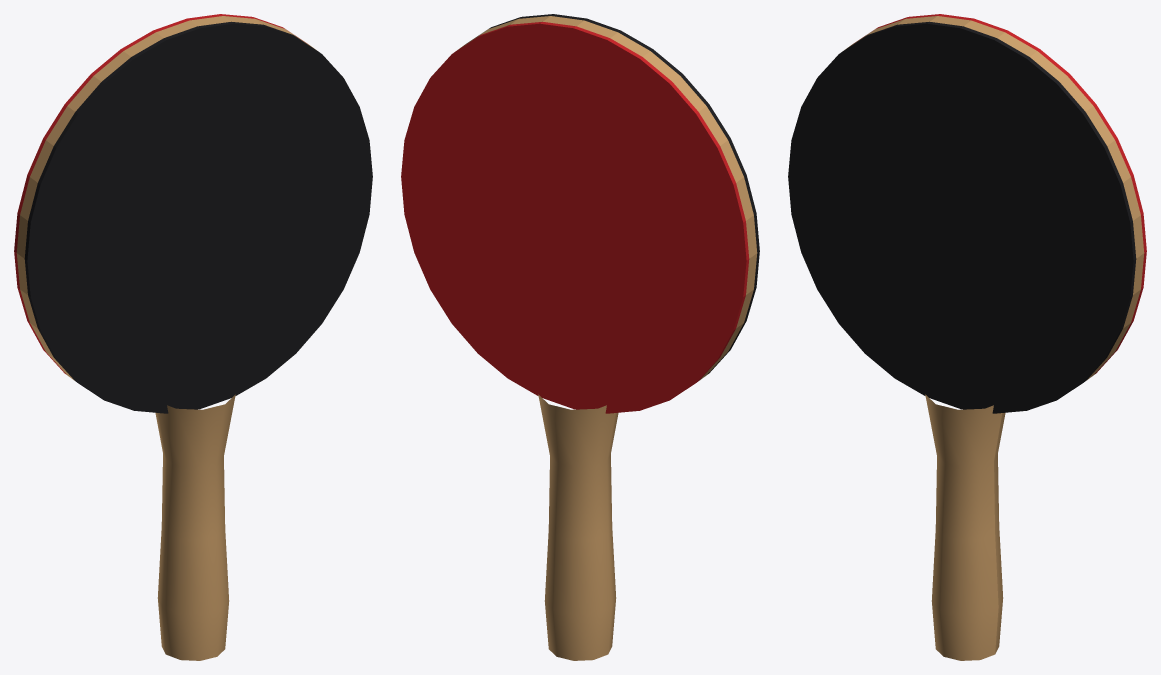
File: ping_pong_paddle.glb
3 renders of one model, left to right at view 1: azimuth 30°, elevation 25°; view 2: azimuth 150°, elevation 25°; view 3: azimuth 330°, elevation 25°, orthographic.
Visible parts, largest first — view 1: PingPongPaddle; view 2: PingPongPaddle; view 3: PingPongPaddle.
Boxes of the visible parts, x1,y1,x2,y2 form: PingPongPaddle: (14,14,372,660); PingPongPaddle: (401,14,759,660); PingPongPaddle: (788,14,1146,660).
Bounding box in the file's own units: 0.15 × 0.259 × 0.0304.
